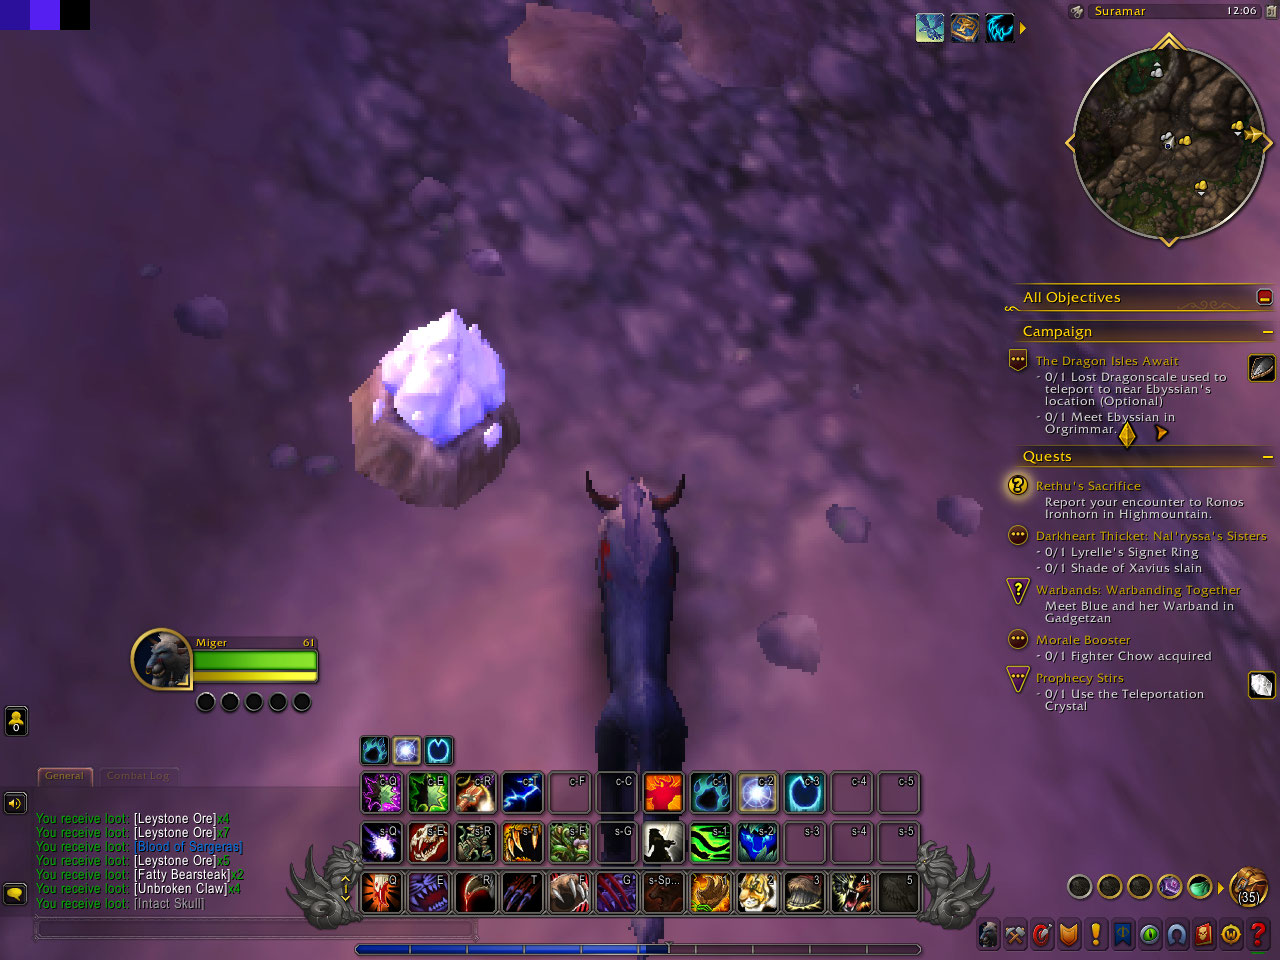ore: (346, 314, 524, 514)
